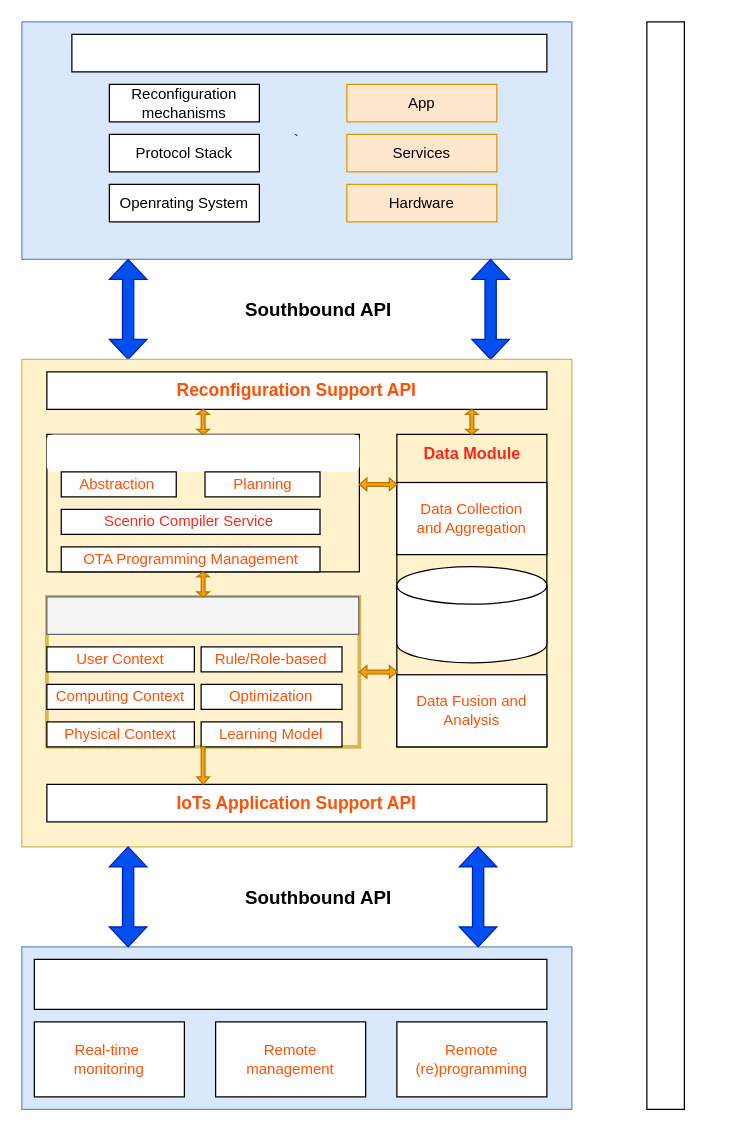
The diagram is 731 pixels wide and 1131 high, and some of its shapes have lost their labels. Here are the shapes that lost their labels. From the top down, the centre of each, then its label:
At (x=309, y=52): "IoTs devices reconfiguration APIs".
At (x=202, y=452): "System Reconfiguration Service".
At (x=665, y=565): "Secrity, Privacy, and TrustModule".
At (x=202, y=615): "Context Managenment and Reasoning".
At (x=471, y=614): "Data storage".
At (x=290, y=983): "IoTs Application Layer Protocols (HTTPS, MQTT, CoAP, ect.)".
